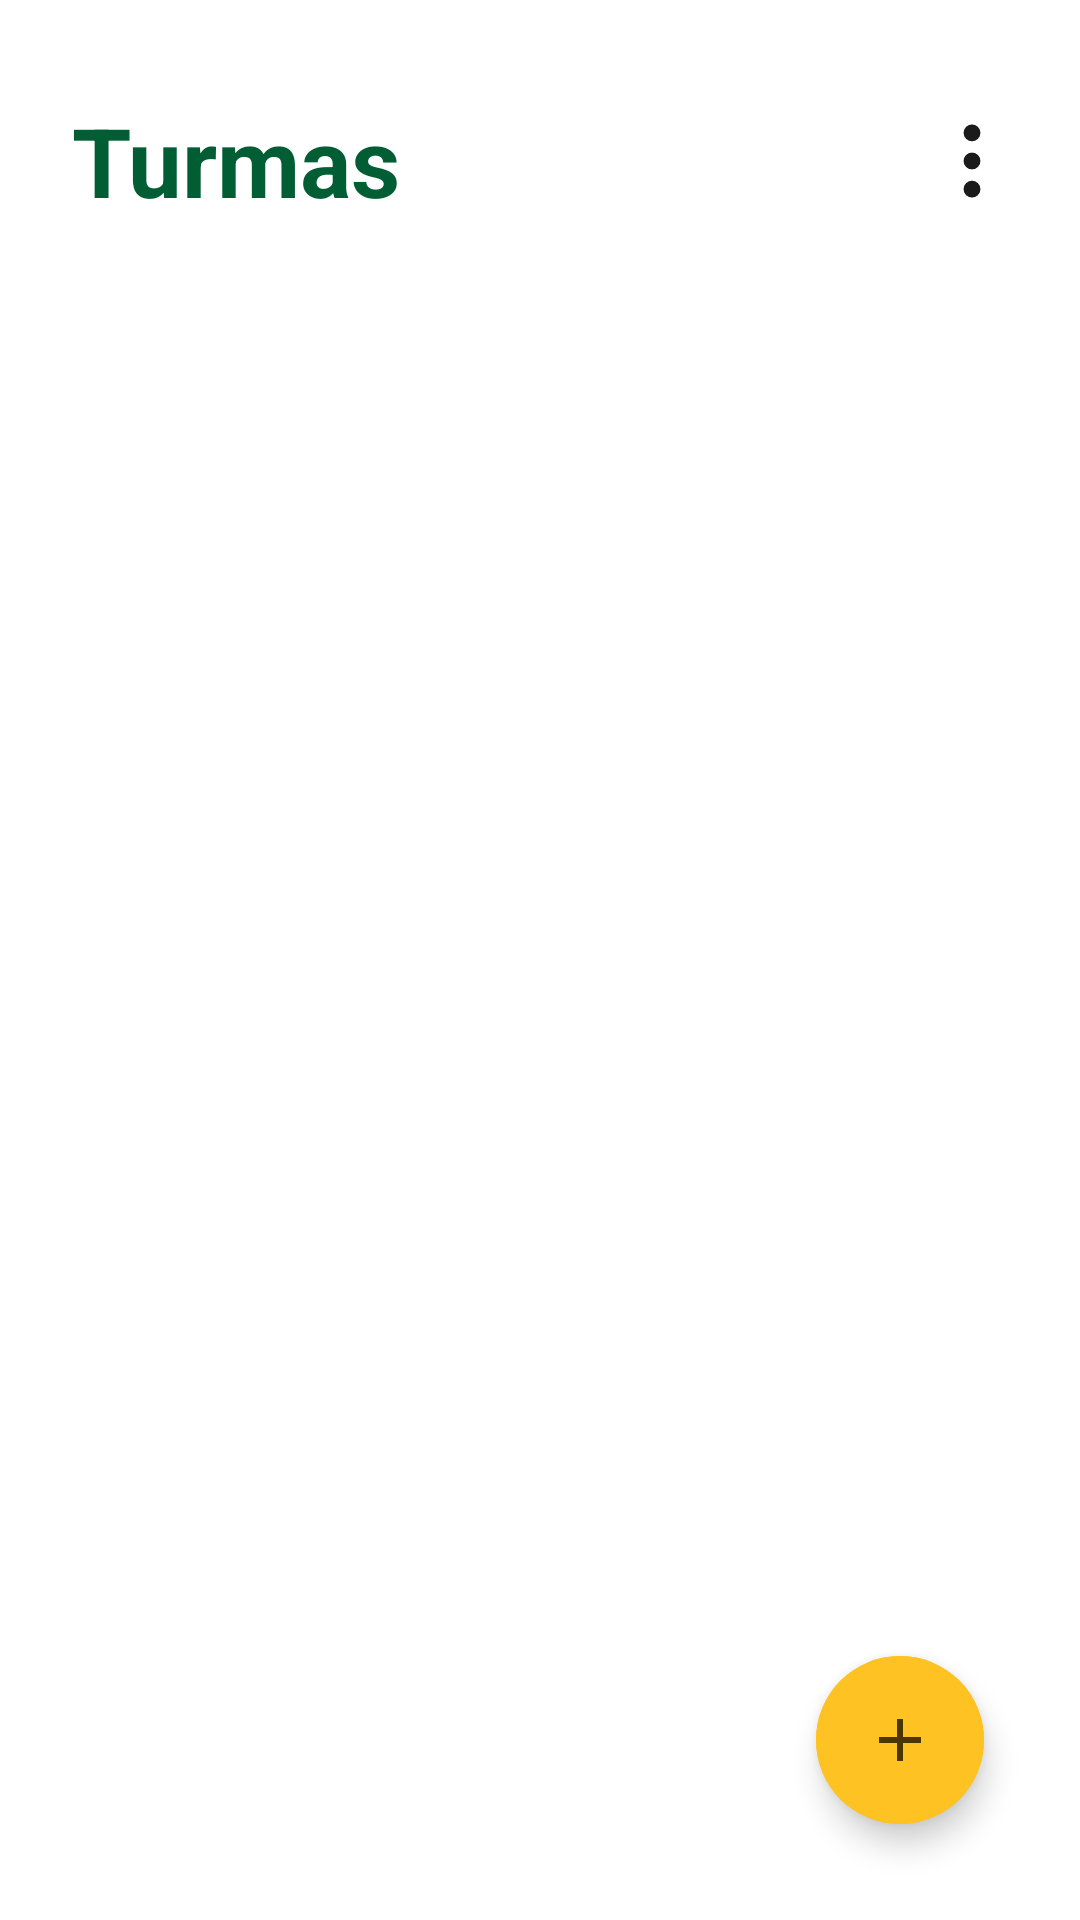

Where icons sit on this 1080w x 1920h app screen, as (x1, y1, x2, y2):
add task: (816, 1656, 984, 1824)
ellipsis: (963, 124, 981, 198)
